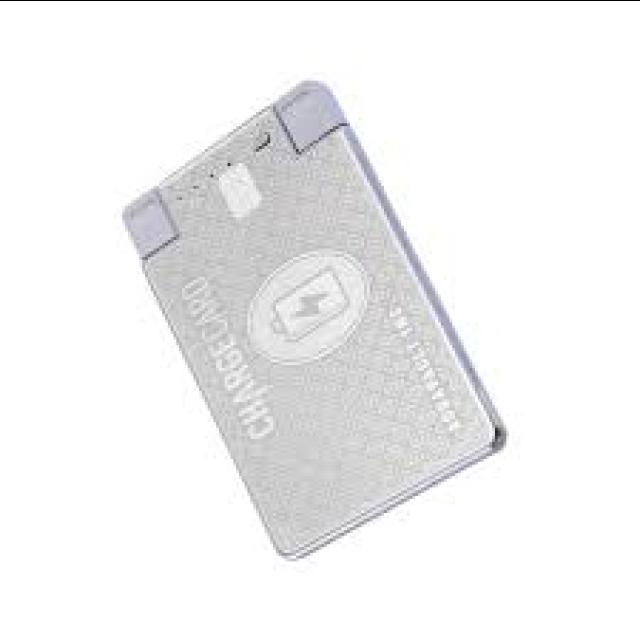power_bank: (116, 69, 514, 563)
